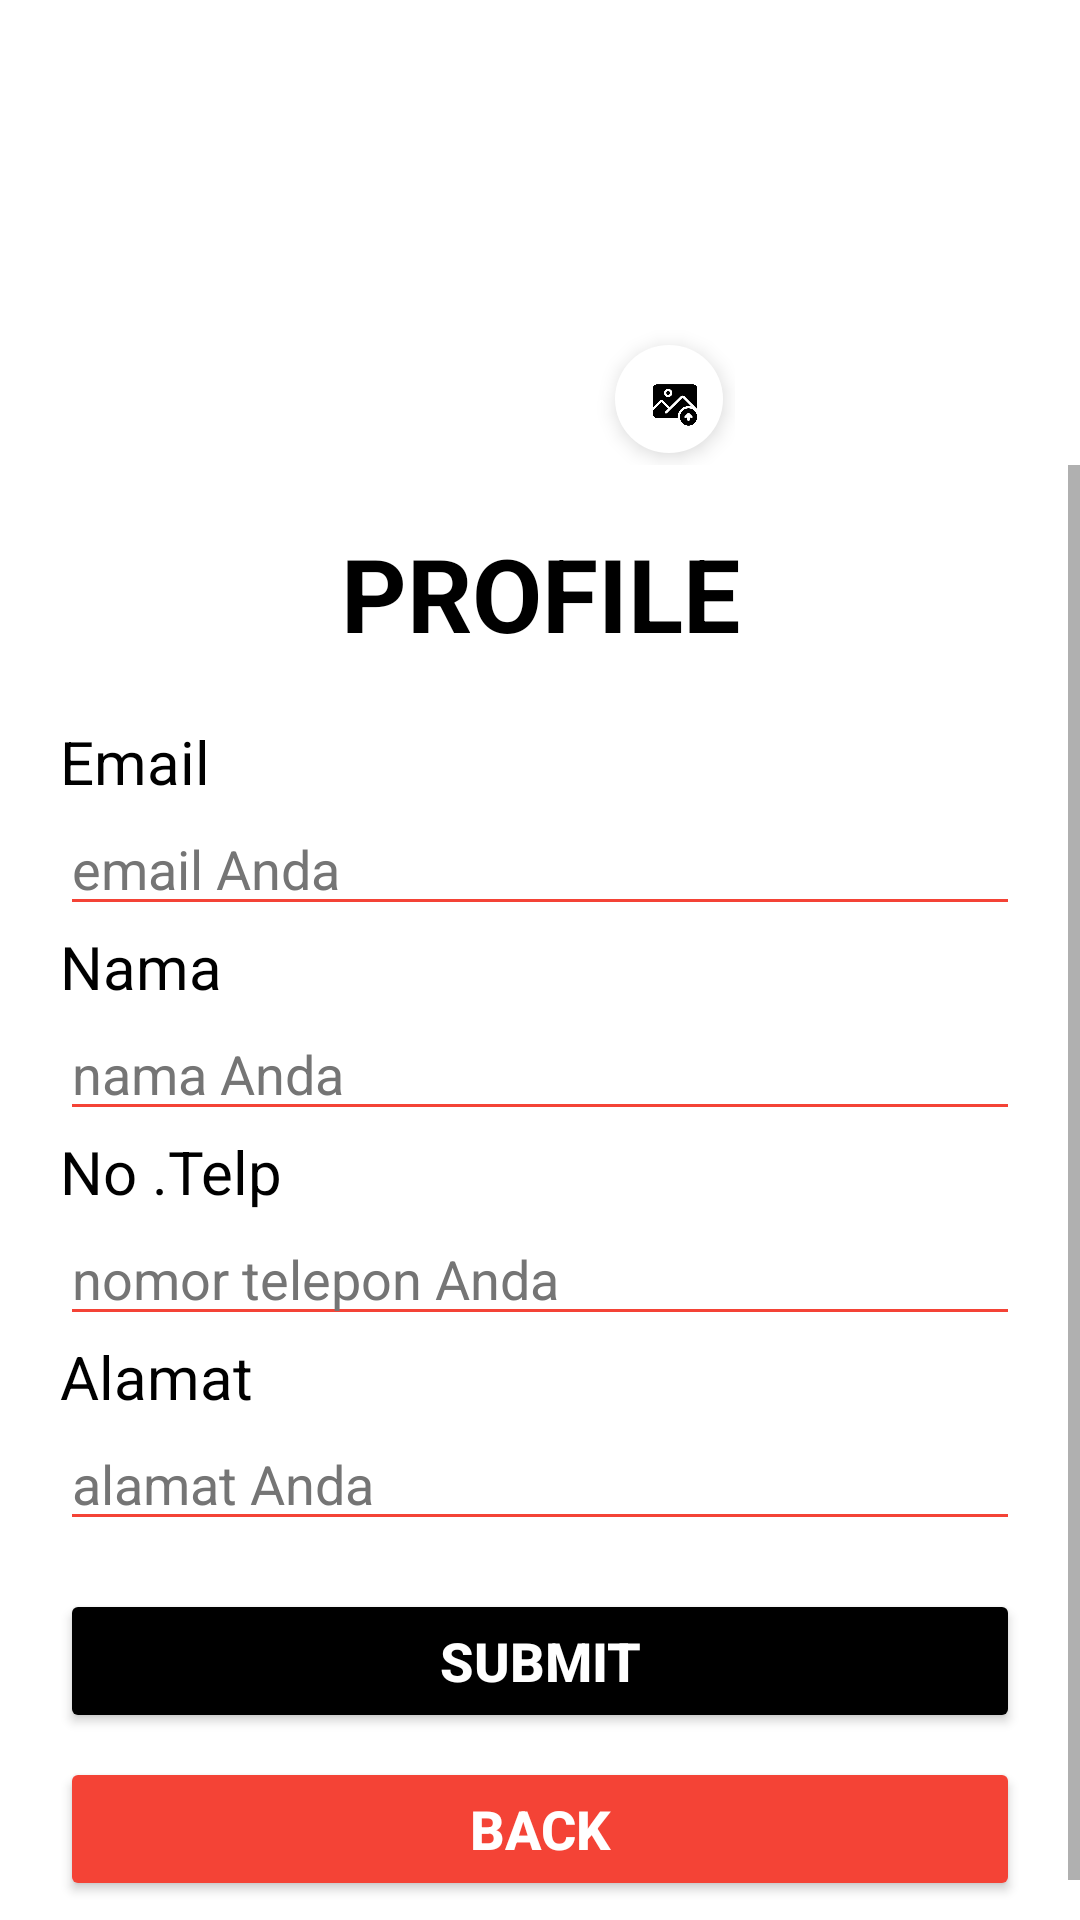

Icon bounding boxes for this 1080w x 1920h phone screenshot, format bbox=[x1, y1, x2, y2]:
Upload Photo: bbox=[653, 384, 697, 426]
